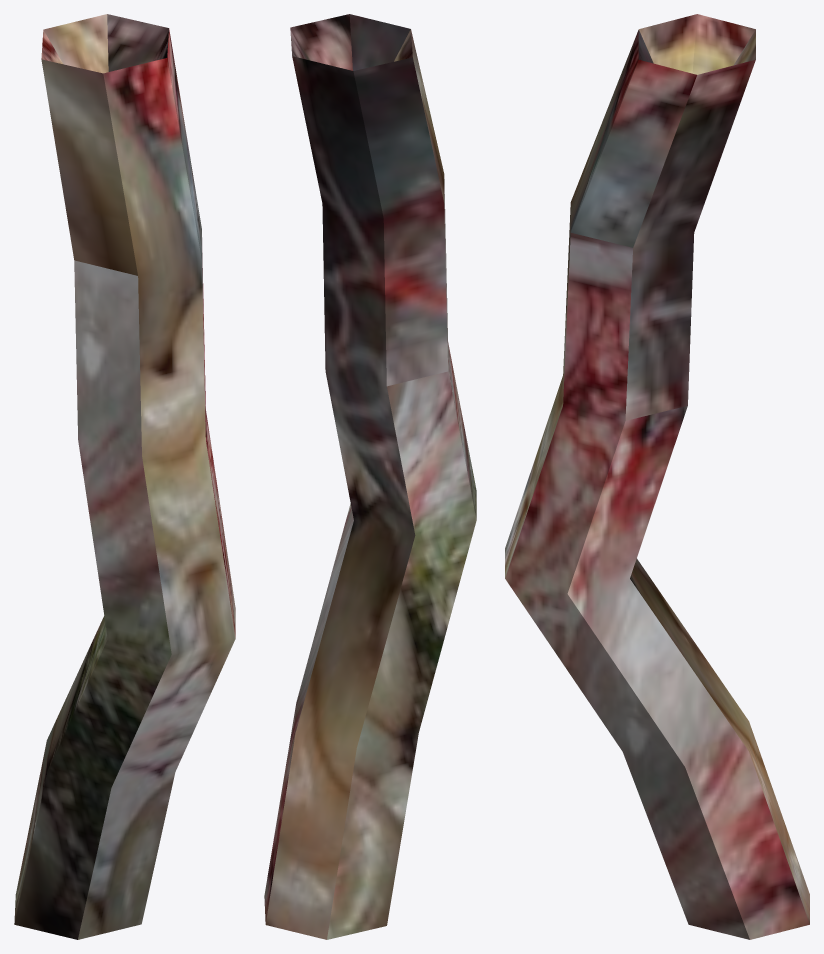
File: thingy_1.fbx
3 views of the same model, side by side, from view 1: azimuth 30°, elevation 25°; view 2: azimuth 150°, elevation 25°; view 3: azimuth 270°, elevation 25° (orthographic). The views are drawn at different scales.
Visible parts, largest first — view 1: pPipe1; view 2: pPipe1; view 3: pPipe1.
Boxes of the visible parts, box(x1,y1,x2,y2) form: pPipe1: box(14, 14, 235, 939); pPipe1: box(264, 14, 476, 939); pPipe1: box(505, 14, 809, 939).
Bounding box in the file's own units: 0.5743 × 3.8 × 1.21.
